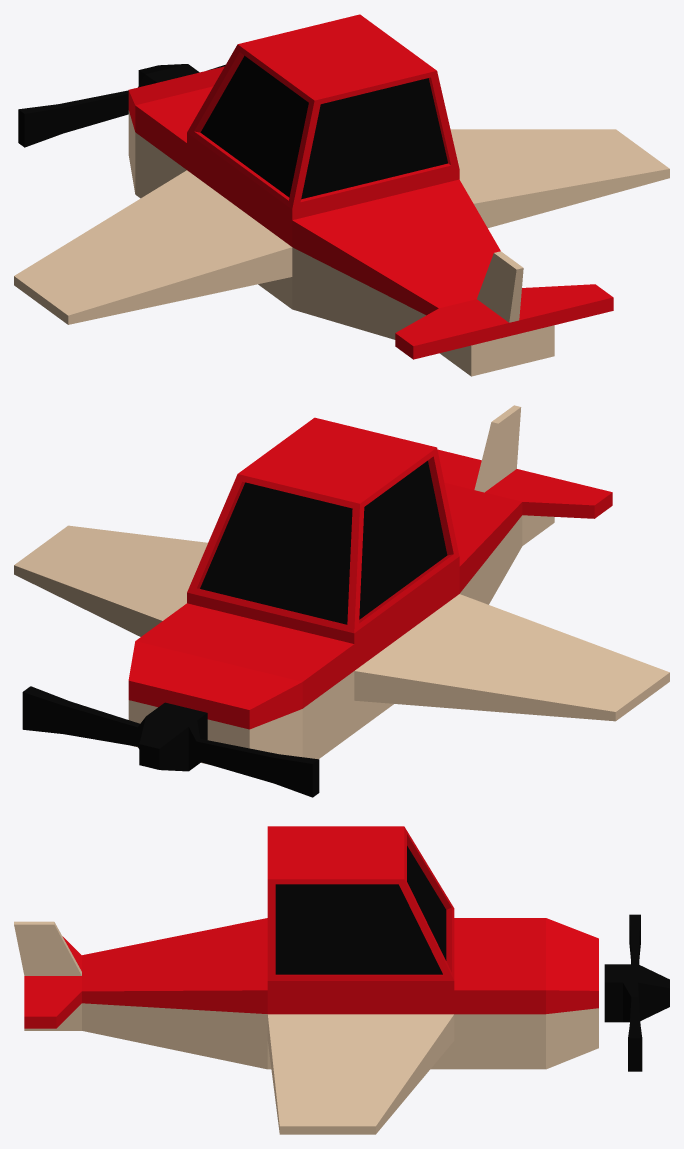
Rendered from newPlane.fbx.
3 renders of one model, top to bottom at view 1: azimuth 30°, elevation 25°; view 2: azimuth 150°, elevation 25°; view 3: azimuth 270°, elevation 25°, orthographic. The views are drawn at different scales.
Parts seen in each view (by area): view 1: planeBody, leftWing, rightWing, propelor; view 2: planeBody, leftWing, rightWing, propelor; view 3: planeBody, rightWing, propelor.
Part boxes in pixels (<box>): planeBody: <box>128,14,613,376</box>; leftWing: <box>14,170,292,324</box>; rightWing: <box>450,129,669,227</box>; propelor: <box>18,64,225,147</box>; planeBody: <box>128,405,612,764</box>; leftWing: <box>354,594,669,721</box>; rightWing: <box>14,525,207,636</box>; propelor: <box>22,686,319,797</box>; planeBody: <box>14,826,598,1069</box>; rightWing: <box>267,1014,454,1134</box>; propelor: <box>604,914,669,1071</box>.
Size of the model in its own units: 255 by 82.4 by 272.
